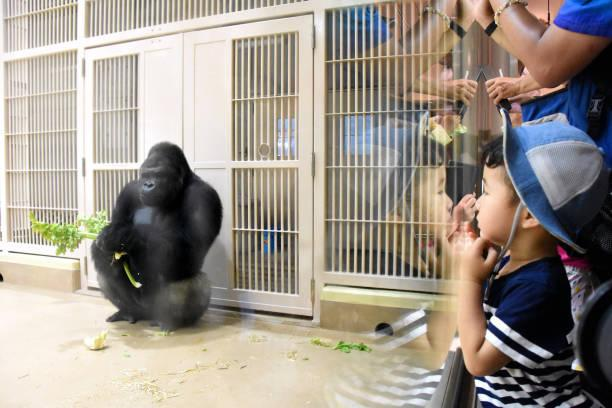gorille_Autres: (88, 131, 242, 337)
